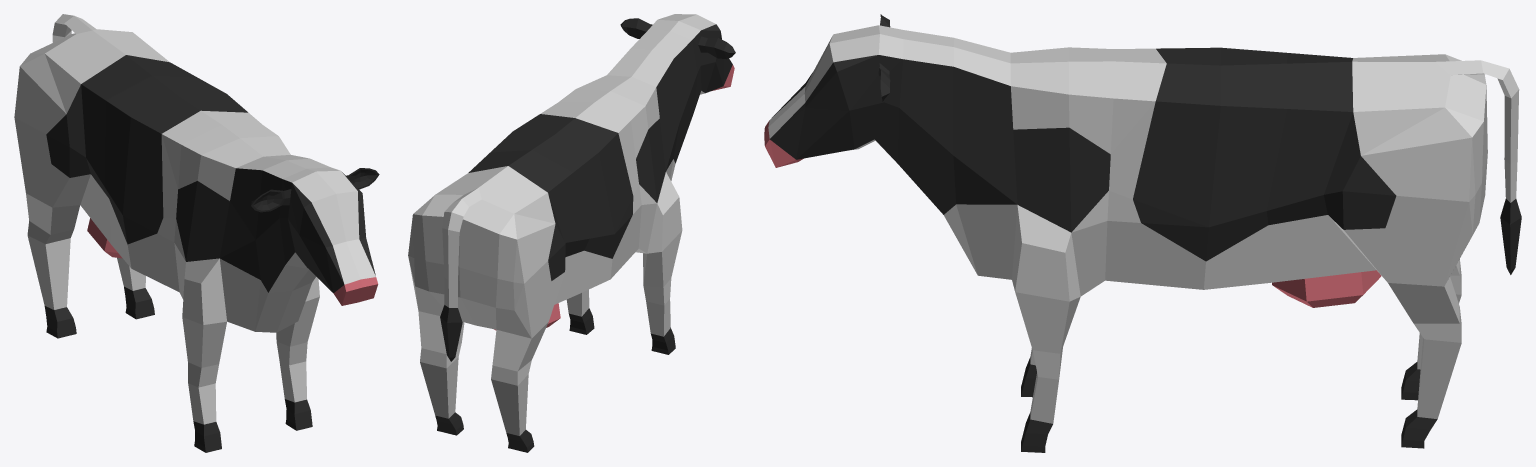
File: cow.glb
3 renders of one model, left to right at view 1: azimuth 30°, elevation 25°; view 2: azimuth 150°, elevation 25°; view 3: azimuth 270°, elevation 25°, orthographic. The views are drawn at different scales.
Parts seen in each view (by area): view 1: Cow; view 2: Cow; view 3: Cow.
Part boxes in pixels (x1=…): Cow: x1=14, y1=14, x2=379, y2=452; Cow: x1=408, y1=14, x2=735, y2=452; Cow: x1=764, y1=14, x2=1521, y2=452.
Bounding box in the file's own units: 2.25 × 5.15 × 9.17.
